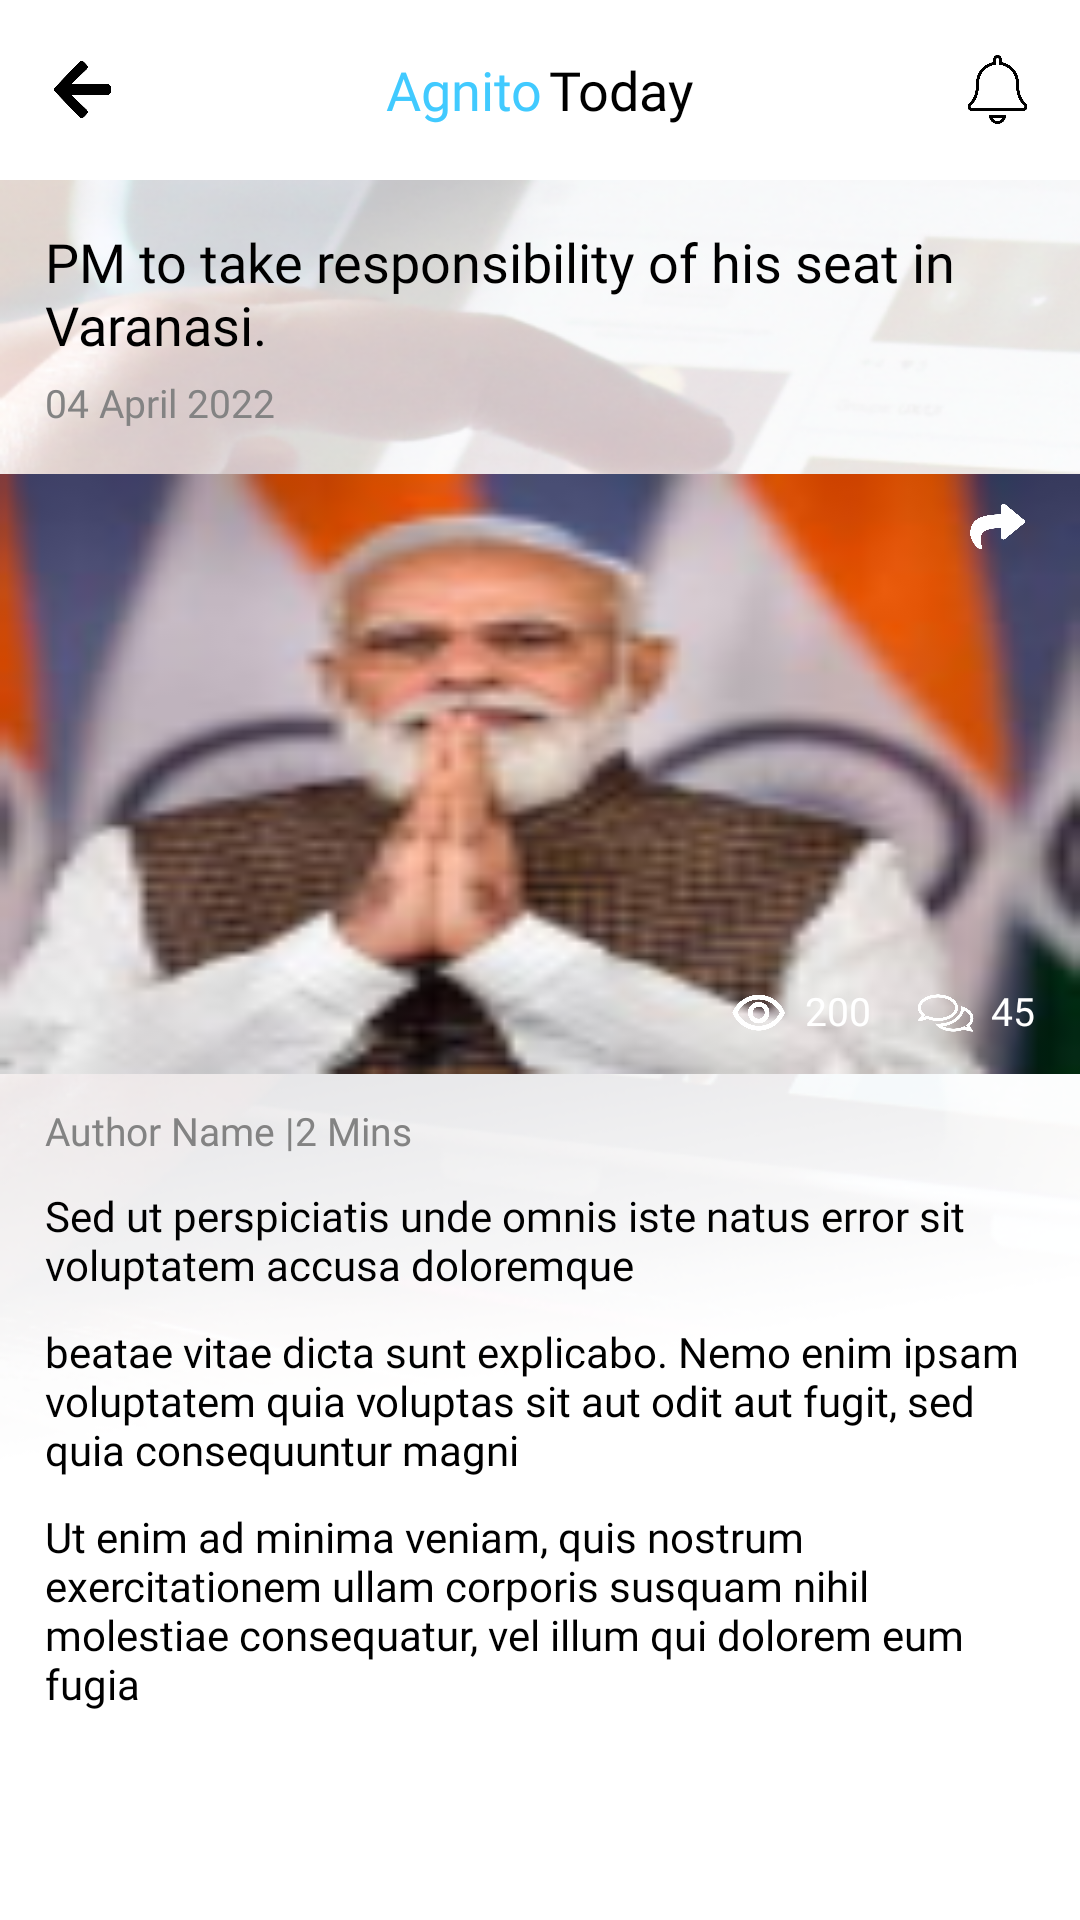

Named icons in this screenshot (1080x1920) and their centers, [x,y]:
arrow left: [82,89]
comments: [946,1014]
notification: [997,89]
